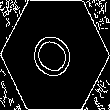O_SE: (27, 24, 83, 86)
